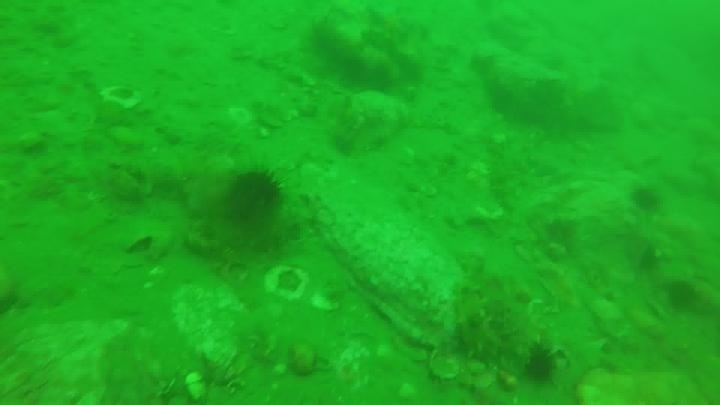echinus: (223, 167, 285, 226), (521, 343, 559, 385), (663, 278, 700, 313), (628, 183, 663, 215)
holothurian: (458, 267, 545, 389), (450, 282, 506, 363)
